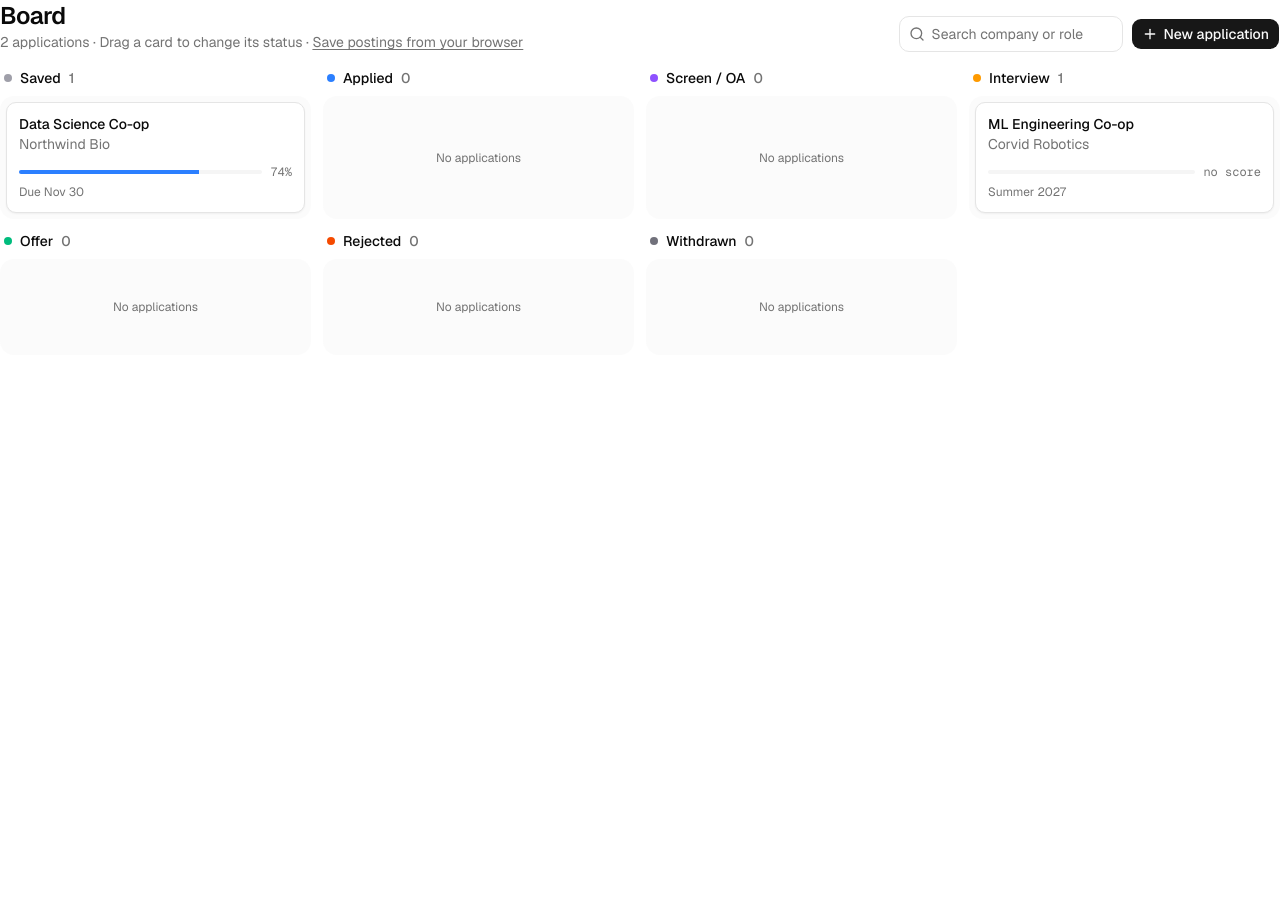
Scenario: BoardPage › opens the detail panel with the status history when a card is clicked
Click the button with aria-label "ML Engineering Co-op at Corvid Robotics" at (1124, 158), box x1=975 y1=102 x2=1274 y2=213
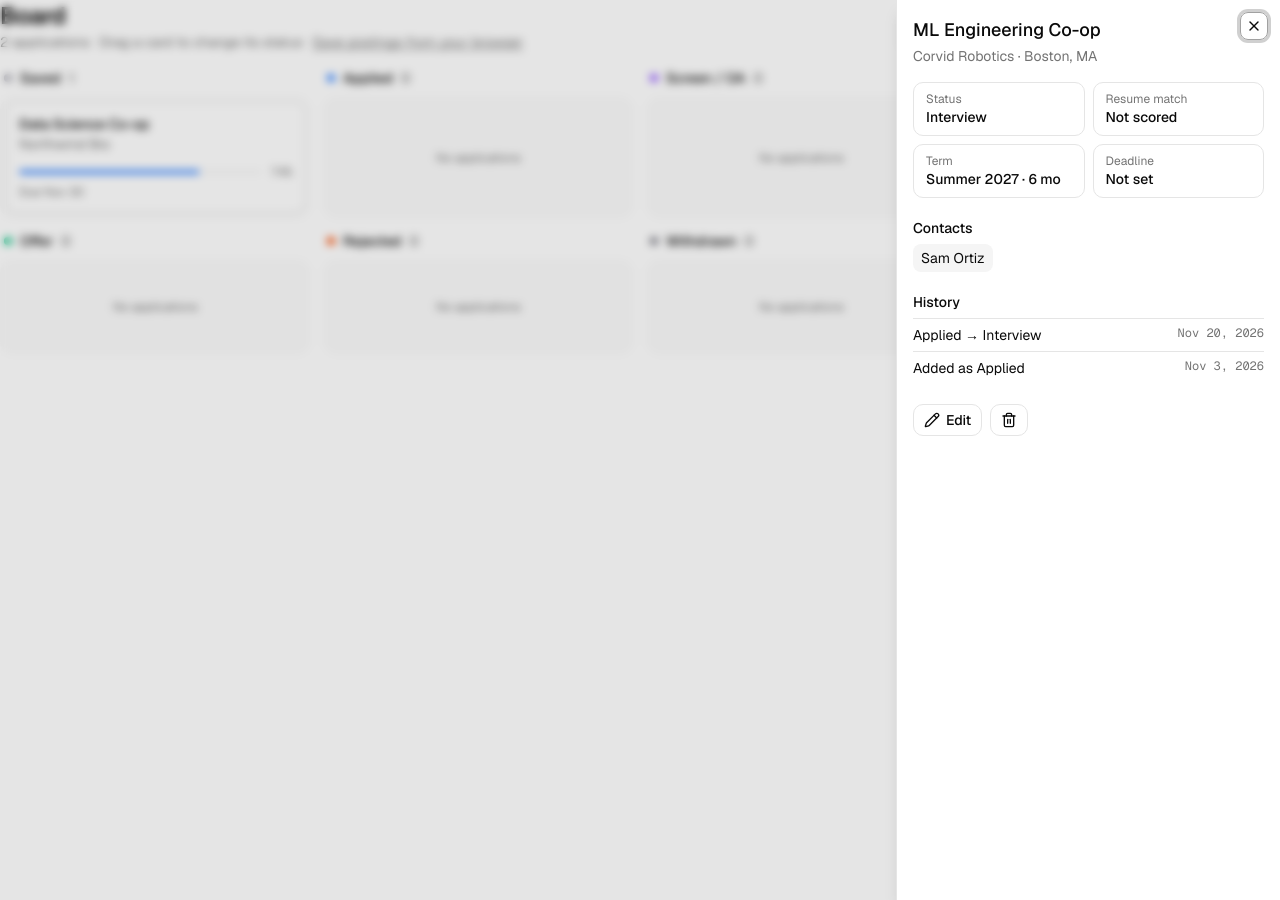
Expected: the text "Corvid Robotics · Boston, MA" is shown, x1=913 y1=47 x2=1097 y2=65
Expected: the list item "Sam Ortiz" is shown, x1=913 y1=244 x2=992 y2=272
Expected: the text "Applied → Interview" is shown, x1=913 y1=325 x2=1042 y2=345
